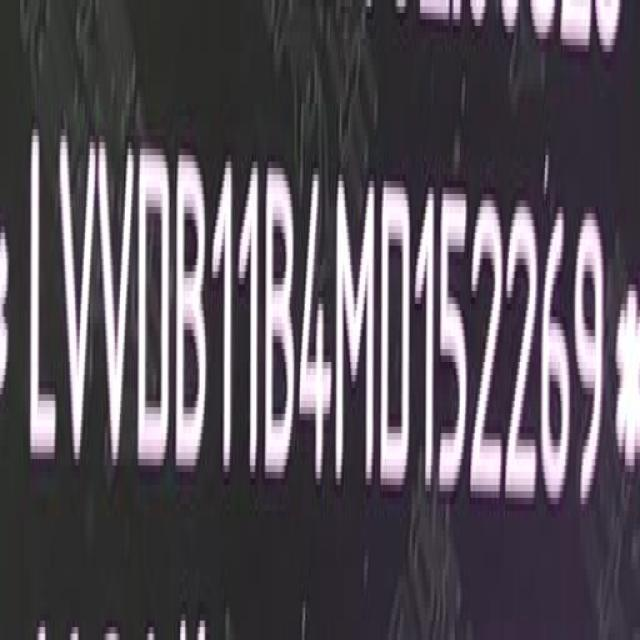1: (212, 156, 236, 486), (414, 177, 436, 496), (238, 160, 259, 482)
2: (469, 192, 505, 500), (505, 206, 539, 500)
4: (297, 167, 332, 479)
5: (438, 189, 468, 505)
6: (572, 201, 604, 515), (539, 208, 573, 503)
B: (174, 160, 210, 474), (265, 151, 296, 479)
D: (136, 141, 171, 474), (379, 175, 412, 488)
L: (29, 120, 60, 479)
M: (334, 172, 377, 486)
V: (98, 130, 134, 477), (60, 134, 96, 472)
